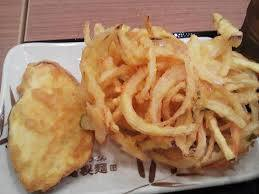kakiage: (87, 23, 259, 173)
satumaimo: (9, 62, 94, 182)
